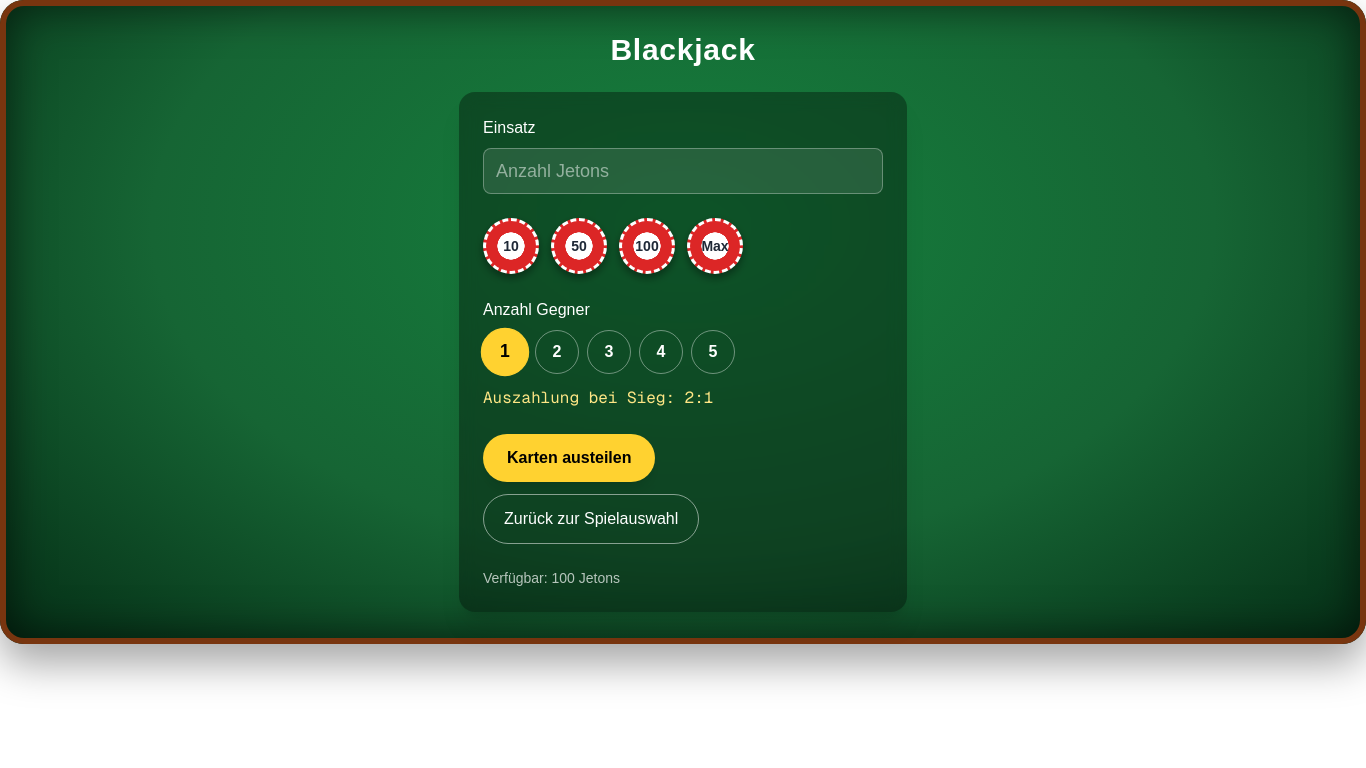
it: BlackjackGame: Einsatz und Gegnerzahl › lehnt den ungueltigen Einsatz '' ab
This screenshot has width=1366, height=768.
Clear the field labelled "Einsatz" at (683, 171), box [483,148,883,194]
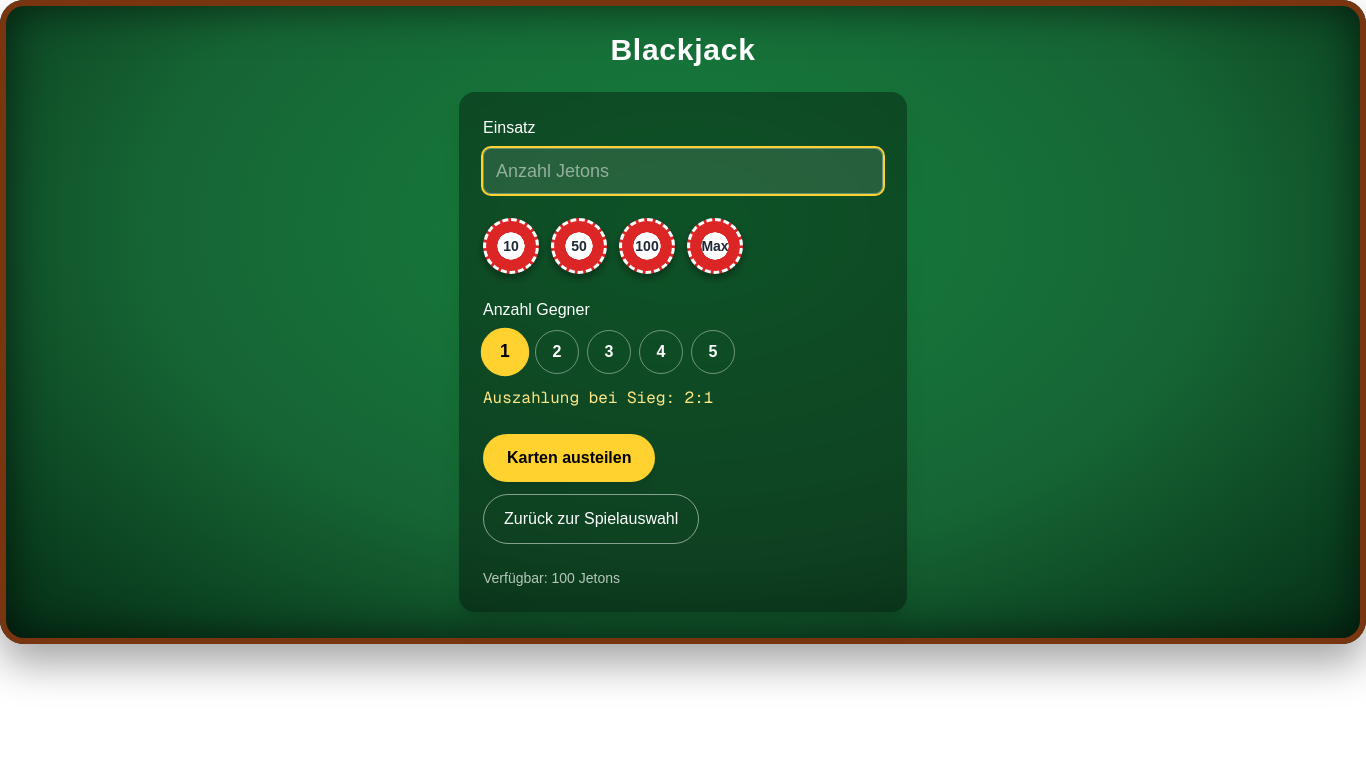
Click the radio button named "1 Gegner" at (505, 352), box [483,330,527,374]
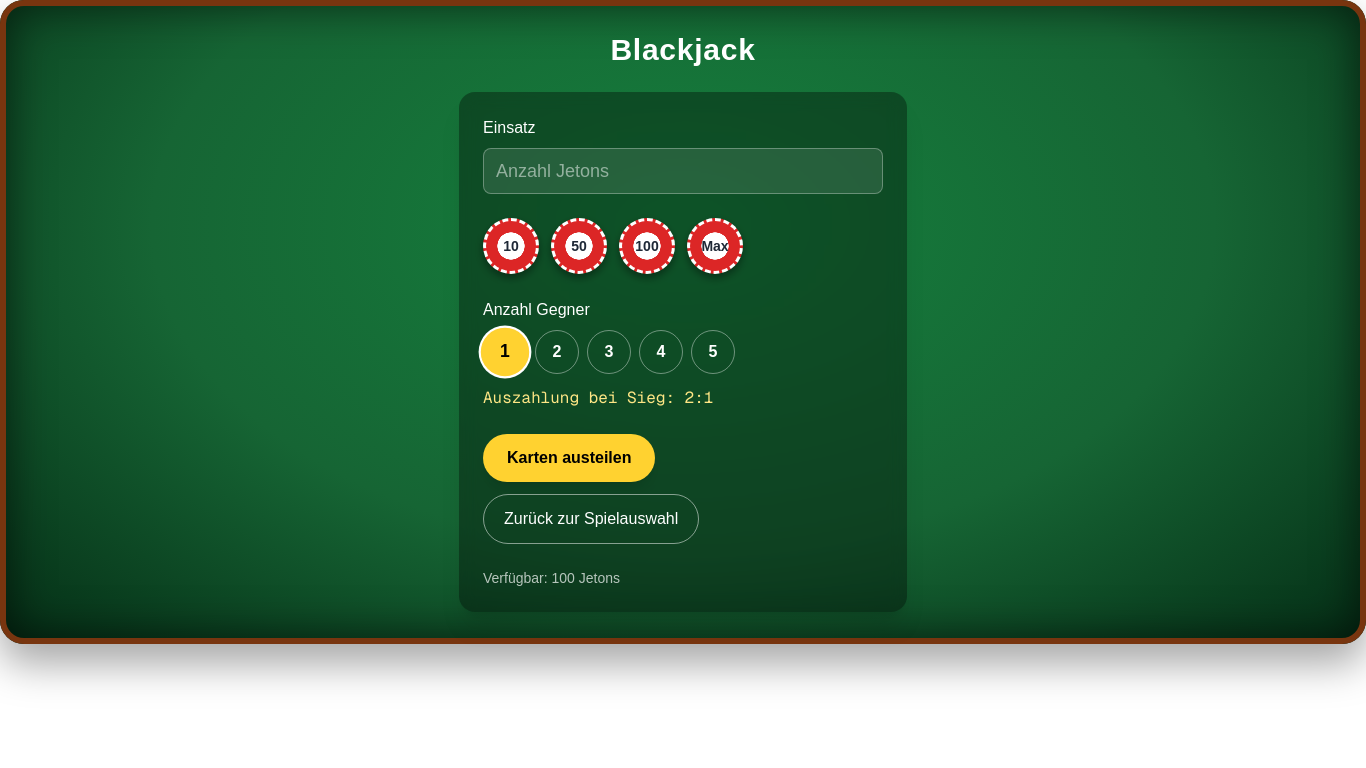
Click the button "Karten austeilen" at (569, 458), box [483,434,656,482]
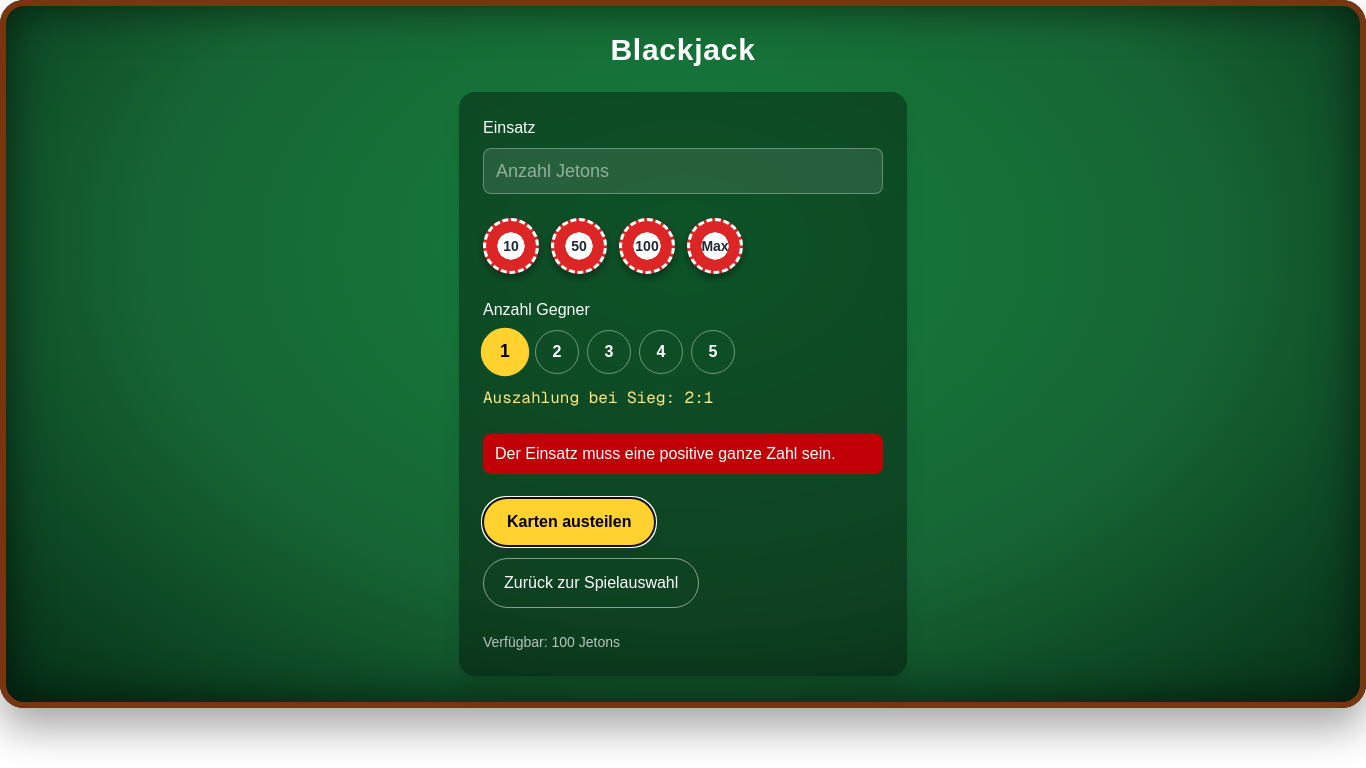
Check: the message "Der Einsatz muss eine positive ganze Zahl sein." is shown, box [483,434,883,474]
